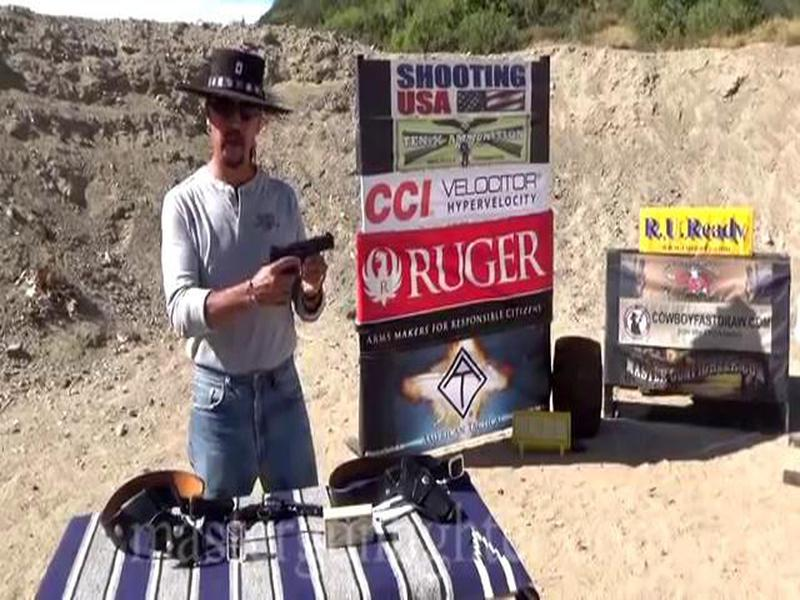Pistola: (248, 230, 359, 306)
